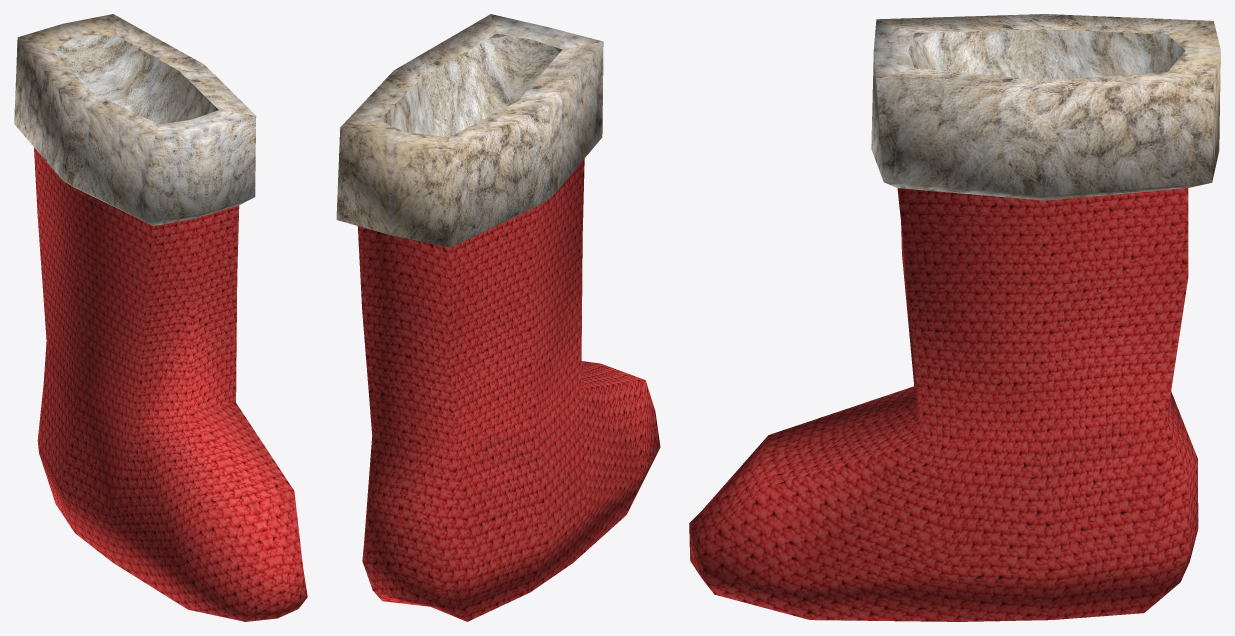
Rendered from TNP0110036.fbx.
The picture shows the model from 3 angles, left to right: view 1: azimuth 30°, elevation 25°; view 2: azimuth 150°, elevation 25°; view 3: azimuth 270°, elevation 25°; orthographic projection. The views are drawn at different scales.
Parts seen in each view (by area): view 1: smTNP0110036; view 2: smTNP0110036; view 3: smTNP0110036.
Part boxes in pixels (box(x1,y1,x2,y2)): smTNP0110036: box(14, 14, 307, 621); smTNP0110036: box(336, 14, 660, 621); smTNP0110036: box(689, 14, 1220, 621).
Size of the model in its own units: 11.92 by 35.09 by 31.03.
1 material, 1 textured.
